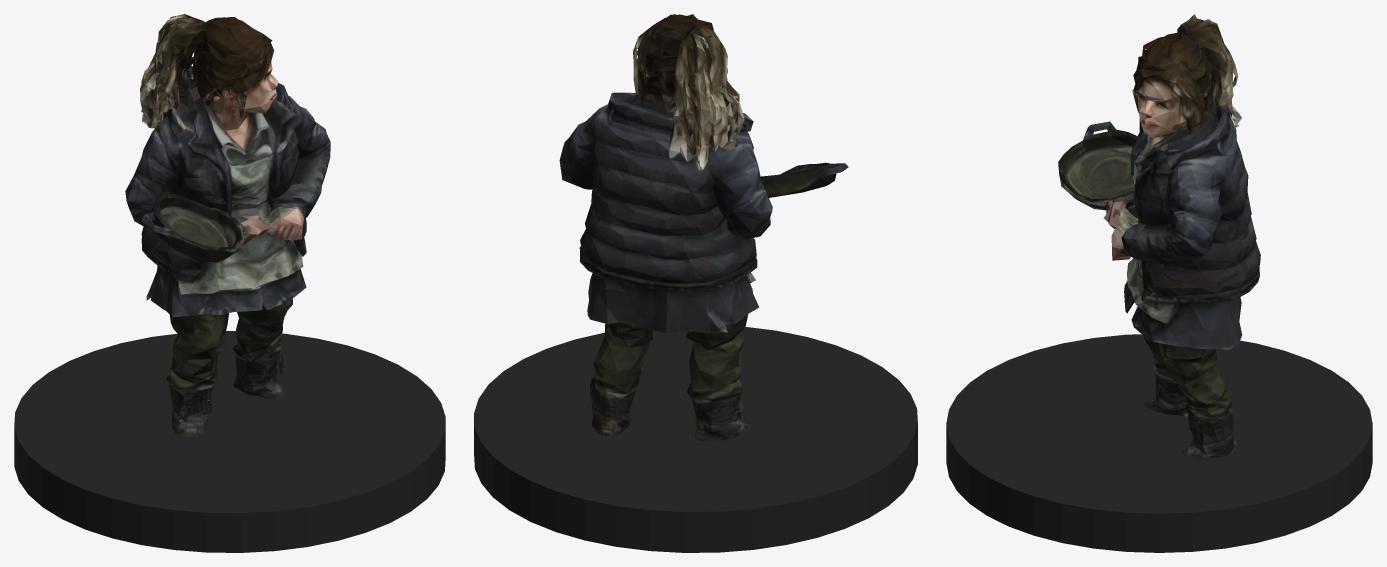
Rendered from jenny-clark.glb.
The picture shows the model from 3 angles, left to right: view 1: azimuth 30°, elevation 25°; view 2: azimuth 150°, elevation 25°; view 3: azimuth 270°, elevation 25°; orthographic projection. The views are drawn at different scales.
Visible parts, largest first — view 1: base, figure; view 2: base, figure; view 3: base, figure.
Part boxes in pixels (x1=…): base: x1=14, y1=331, x2=445, y2=552; figure: x1=125, y1=14, x2=330, y2=437; base: x1=474, y1=327, x2=917, y2=552; figure: x1=559, y1=14, x2=848, y2=441; base: x1=946, y1=334, x2=1372, y2=552; figure: x1=1058, y1=14, x2=1260, y2=459.
Bounding box in the file's own units: 1.18 × 1.32 × 1.18.
Materials: 2 (1 with a texture image).
